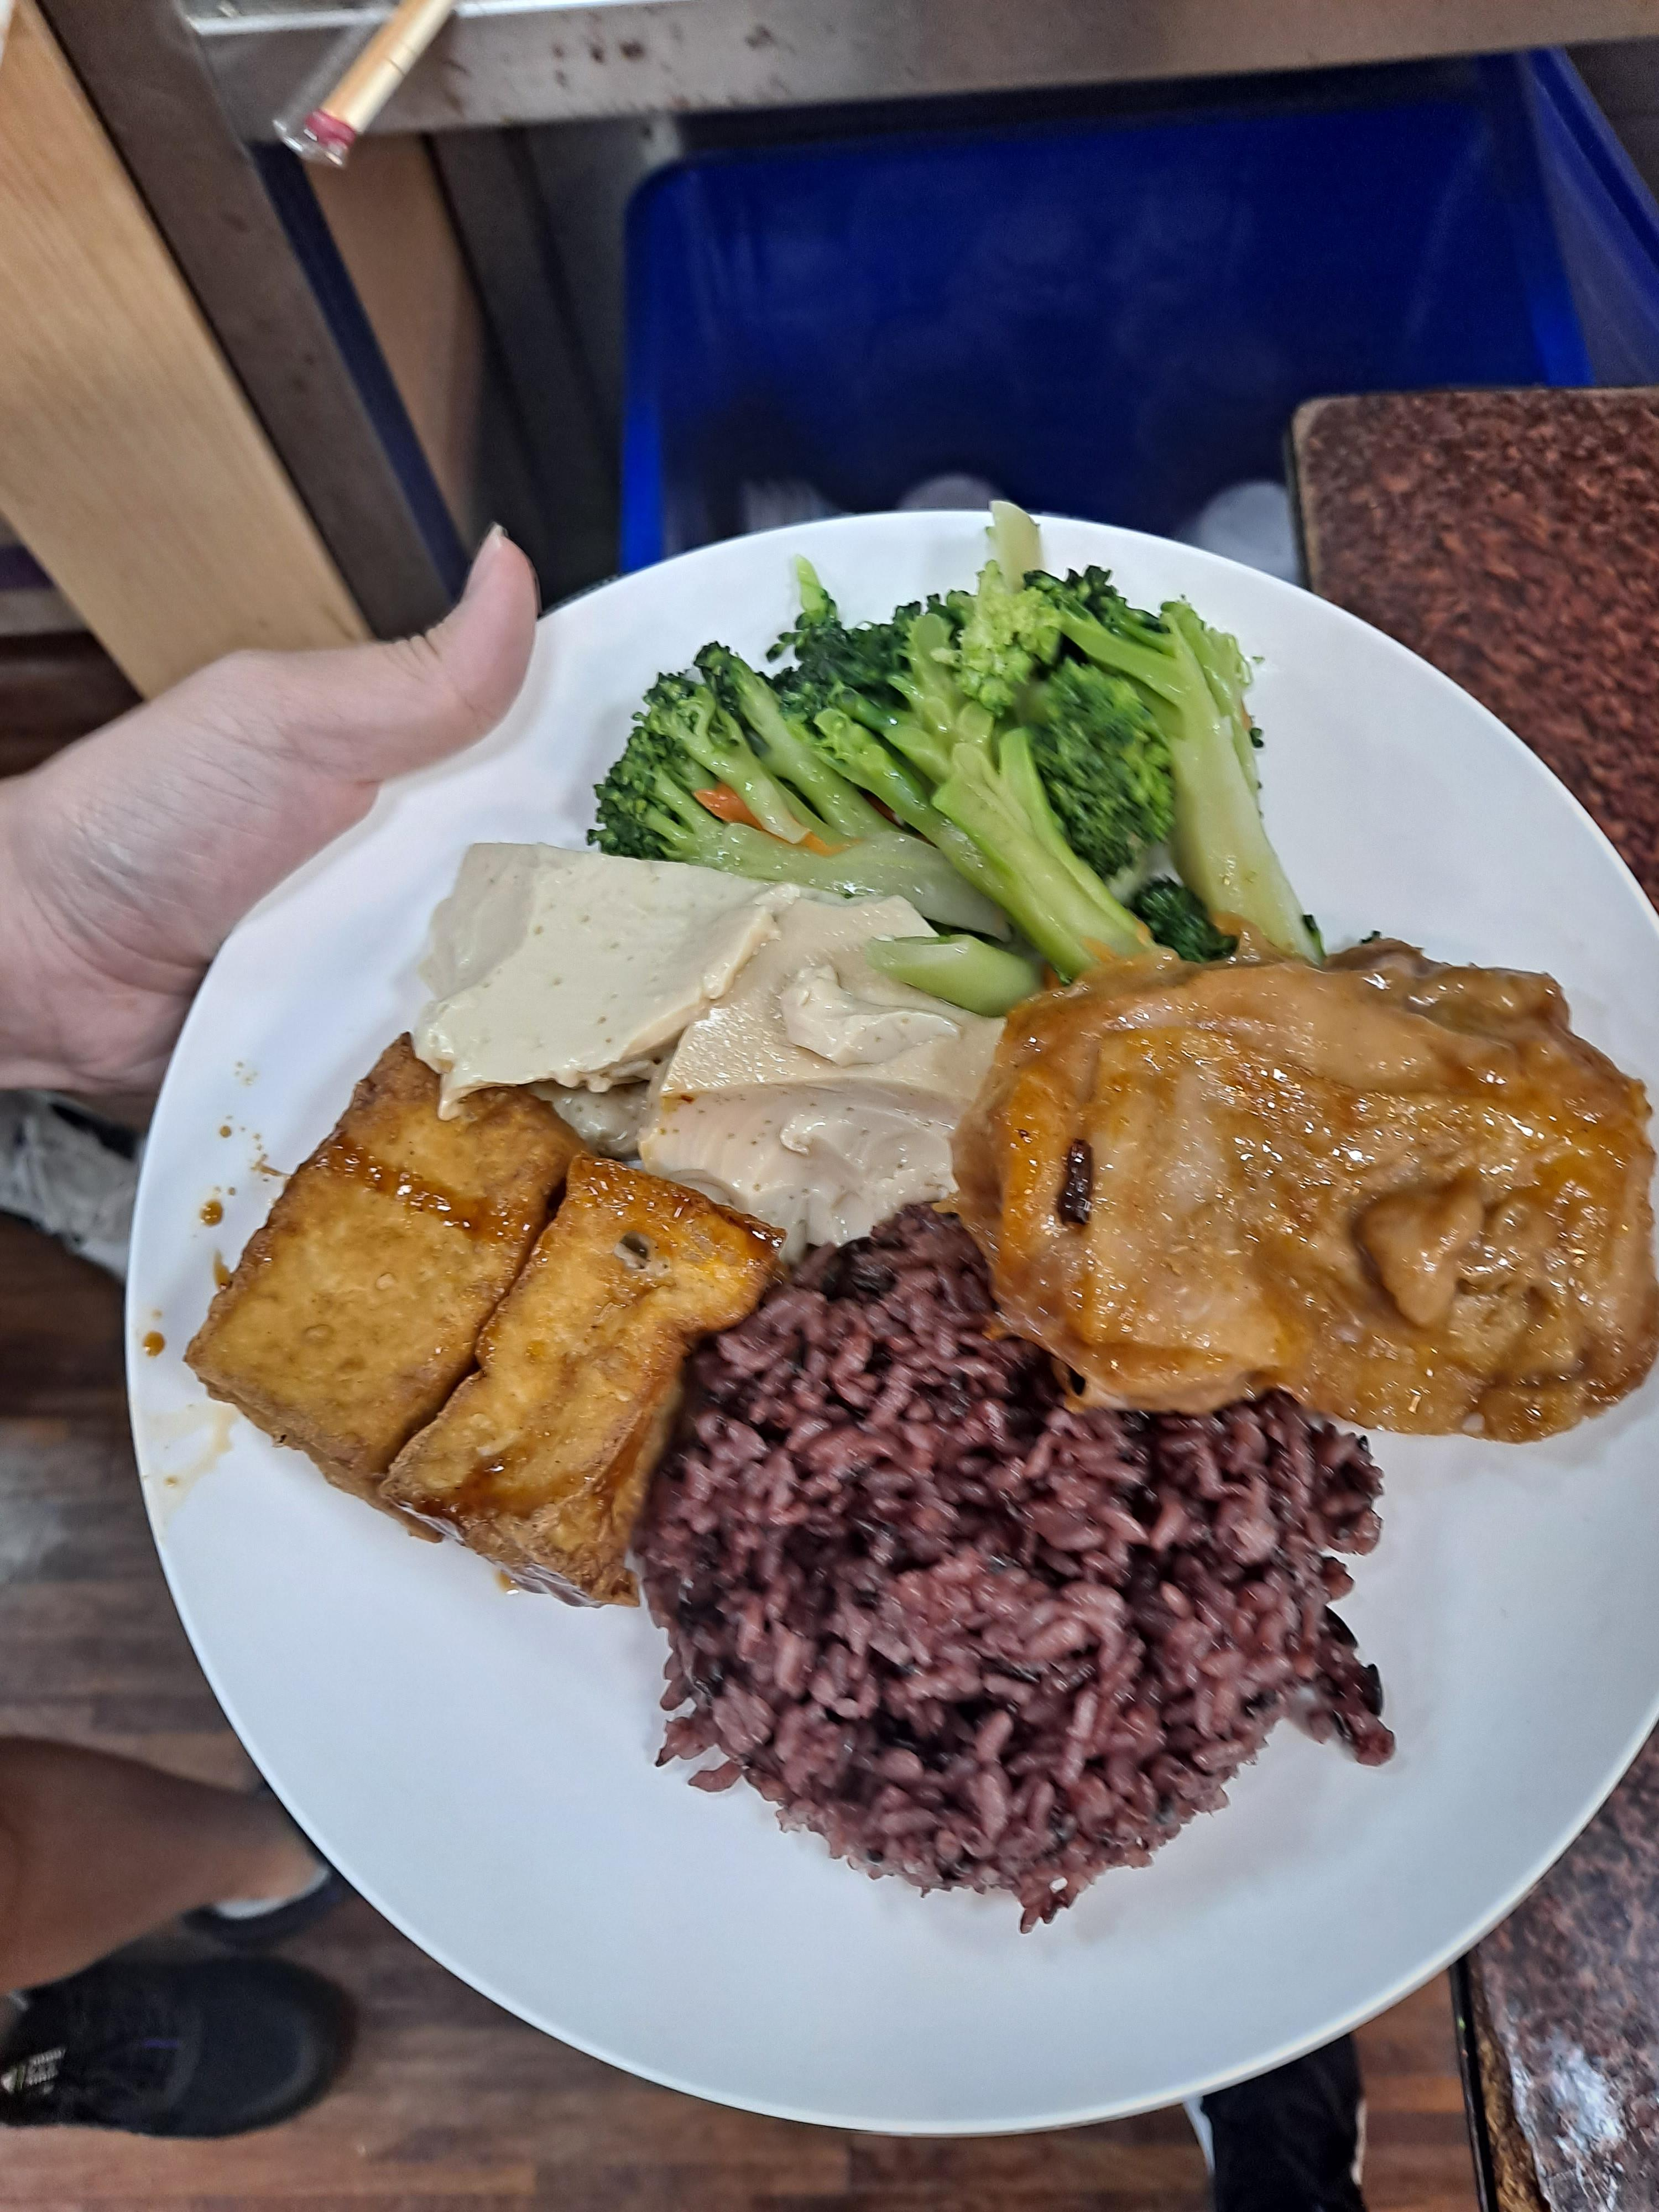big fried chicken leg: (113, 664, 1238, 2212)
braised fish: (511, 1656, 1016, 2212)
braised fish fillet: (137, 1420, 580, 2071), (475, 778, 1041, 1276), (329, 1123, 750, 1614)
braised pork: (727, 1233, 1241, 1970)
